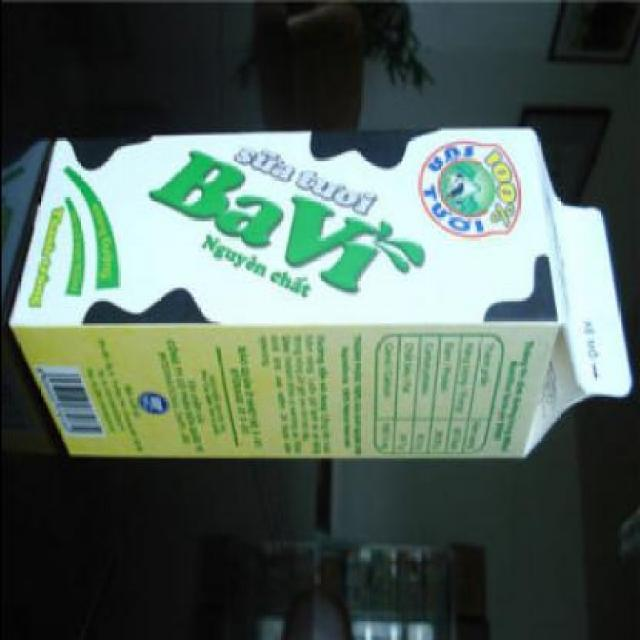non_white_jug: (4, 125, 633, 477)
